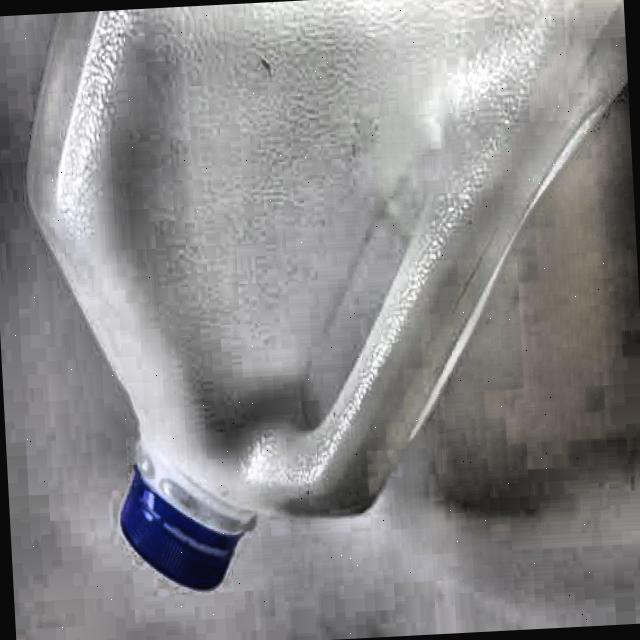plastic: (11, 0, 640, 602)
